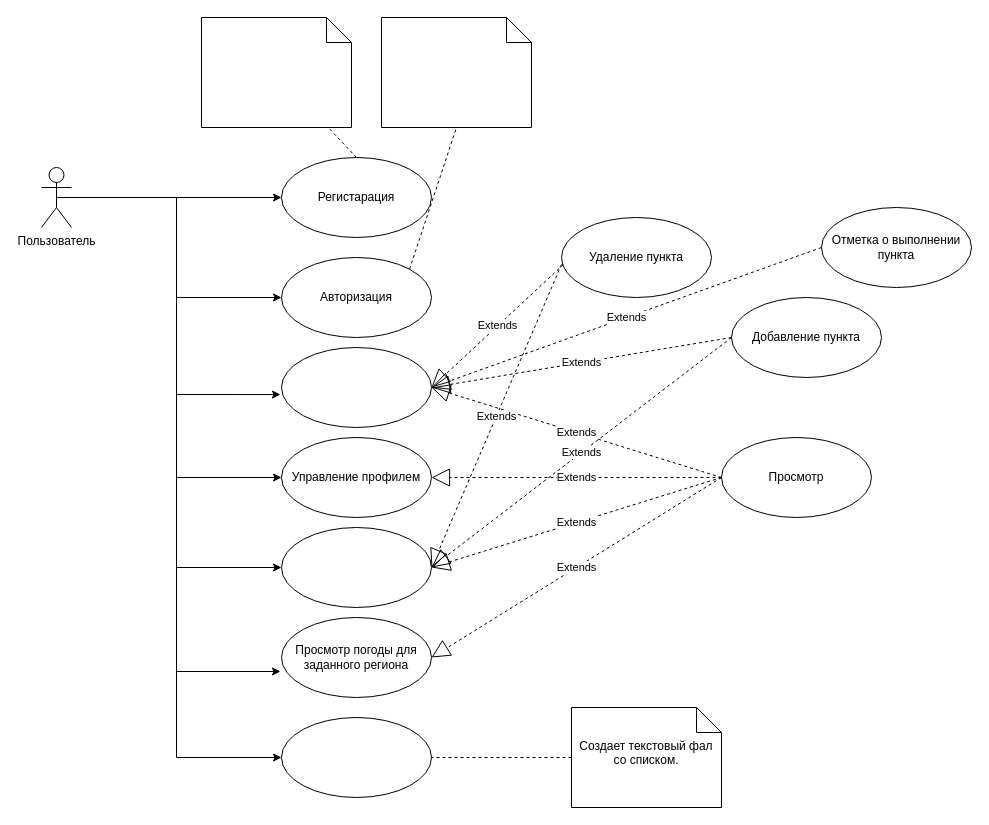
This 989x825 diagram has some shape labels left out. The centre of each missing label's shape, as x and y in pixels:
Дате приватность в использовании программы: the point at 456,72
Поделиться списком: the point at 356,757
При регистрации Можно создать нового пользователя: the point at 276,72
Создание напоминаний: the point at 356,567
Составление списка дел: the point at 356,387
